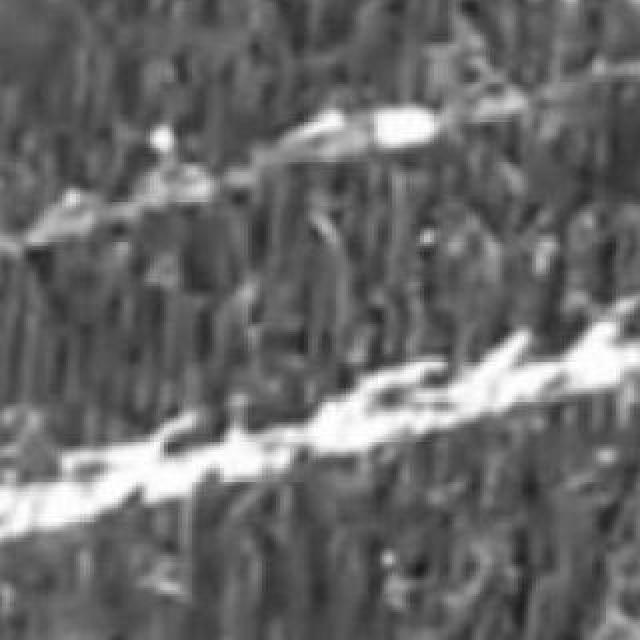Physical-damage: (0, 0, 640, 481), (0, 380, 640, 640)
